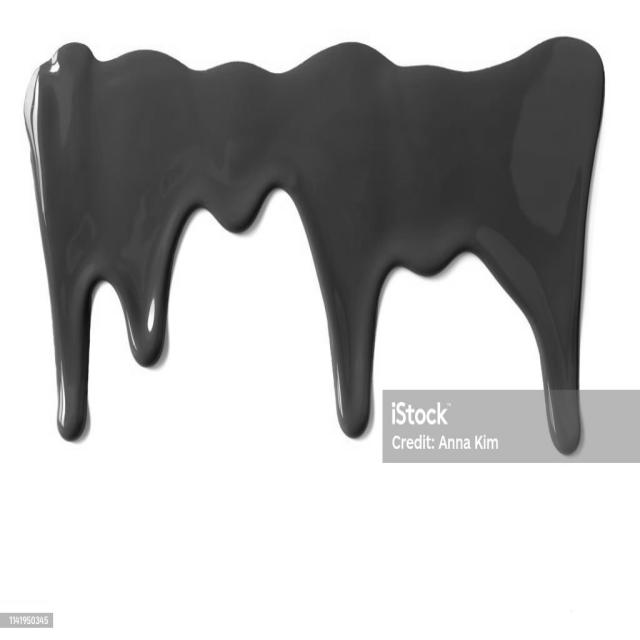paint drips: (21, 34, 602, 495)
